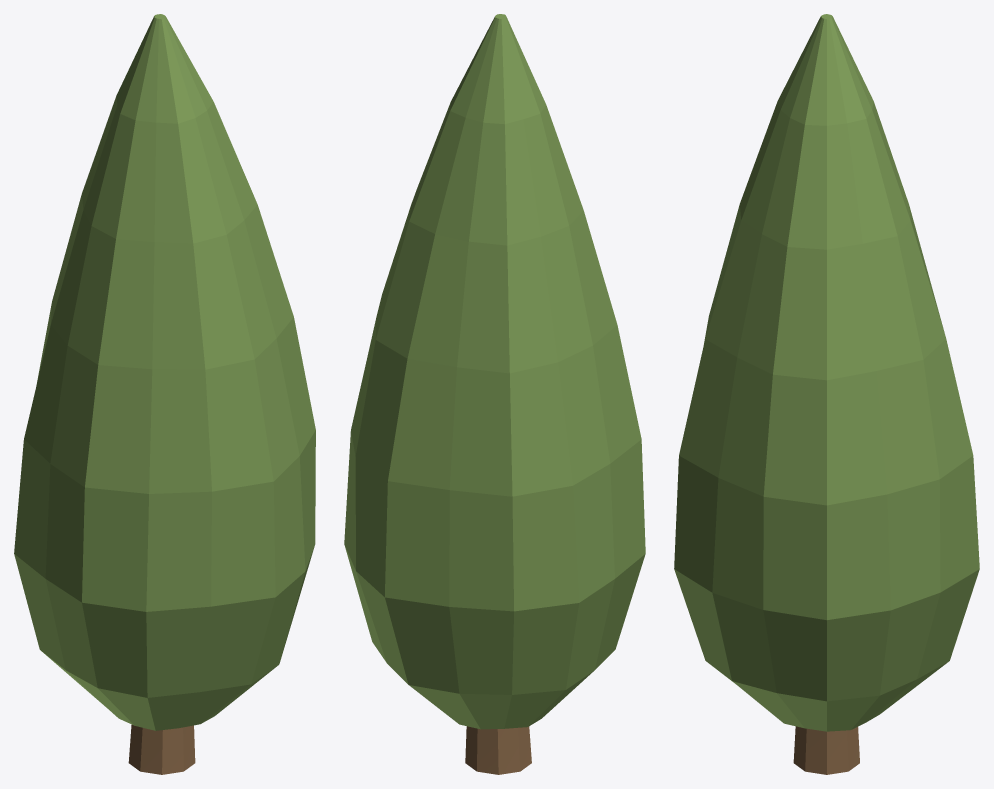
Rendered from cypress-soft-0.glb.
3 views of the same model, side by side, from view 1: azimuth 30°, elevation 25°; view 2: azimuth 150°, elevation 25°; view 3: azimuth 270°, elevation 25° (orthographic).
Parts seen in each view (by area): view 1: Cypress, Trunk; view 2: Cypress, Trunk; view 3: Cypress, Trunk.
Boxes of the visible parts, <box> form: Cypress: <box>14,14,315,730</box>; Trunk: <box>128,724,195,774</box>; Cypress: <box>344,14,645,729</box>; Trunk: <box>465,726,531,774</box>; Cypress: <box>674,14,979,731</box>; Trunk: <box>793,726,859,774</box>.
Bounding box in the file's own units: 0.6184 × 1.7 × 0.6338.
